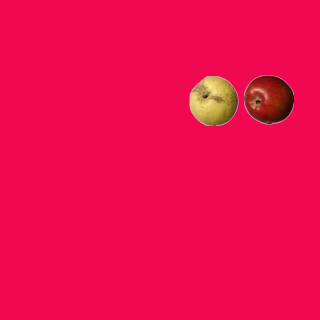Apple Braeburn: (243, 74, 293, 124)
Apple Golden 1: (188, 75, 238, 125)
